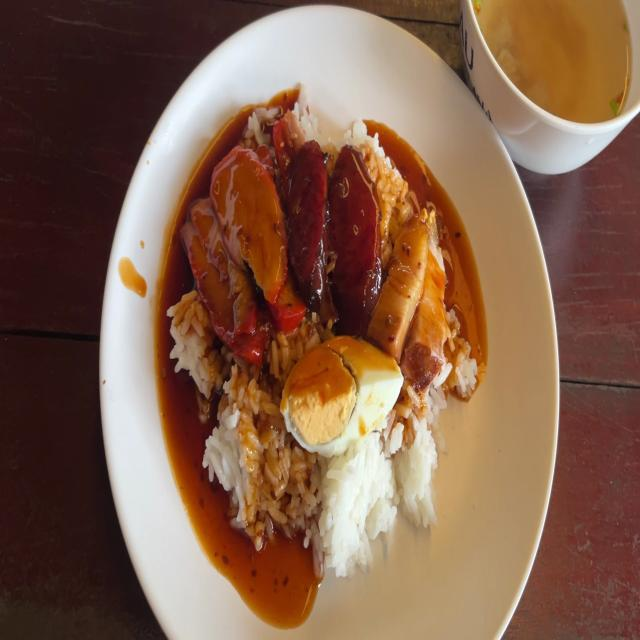red_pork_and_crispy_pork: (289, 331, 399, 443)
stir_fried_basil: (277, 143, 386, 308), (274, 143, 338, 310), (330, 156, 386, 316)
